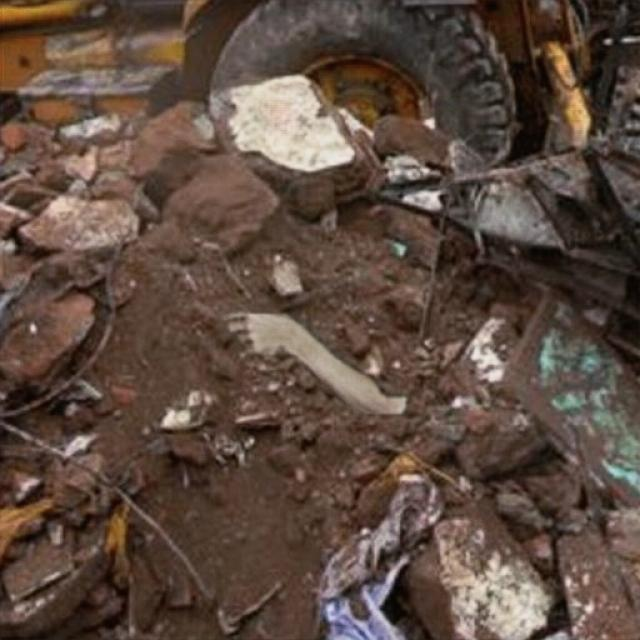Person in Rubble: (220, 314, 408, 412)
